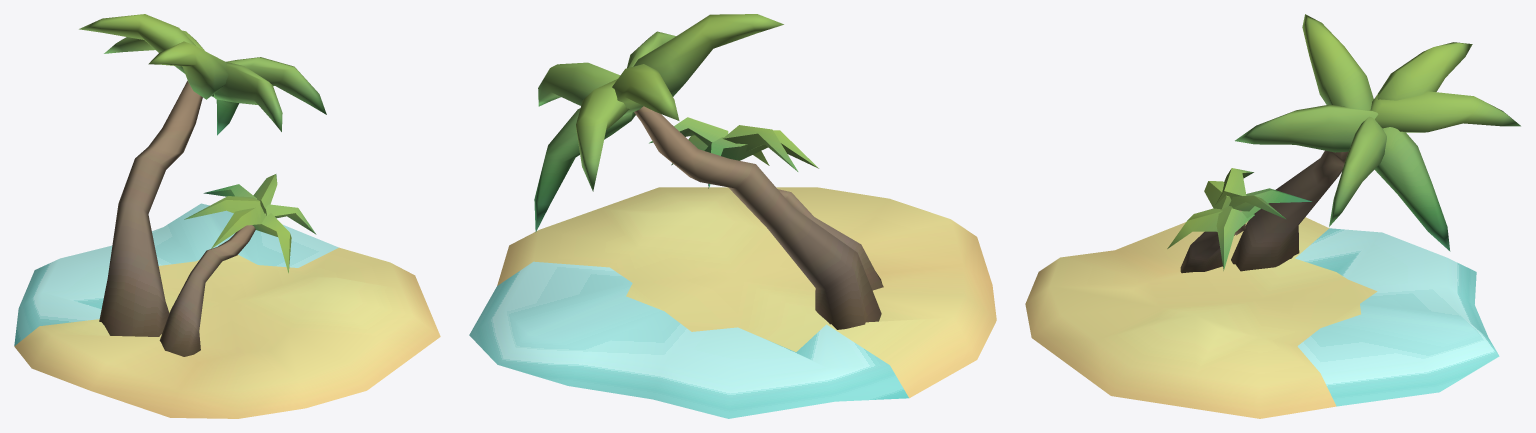
The model's file is BeachTree.fbx.
3 views of the same model, side by side, from view 1: azimuth 30°, elevation 25°; view 2: azimuth 150°, elevation 25°; view 3: azimuth 270°, elevation 25° (orthographic). The views are drawn at different scales.
Visible parts, largest first — view 1: pCylinder236; view 2: pCylinder236; view 3: pCylinder236.
Part boxes in pixels (bbox=[...]): pCylinder236: bbox=[14, 14, 440, 418]; pCylinder236: bbox=[469, 14, 996, 418]; pCylinder236: bbox=[1025, 14, 1520, 418].
Size of the model in its own units: 14.42 by 9.72 by 15.02.
